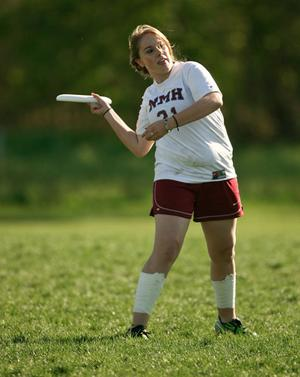person: (86, 24, 259, 339)
